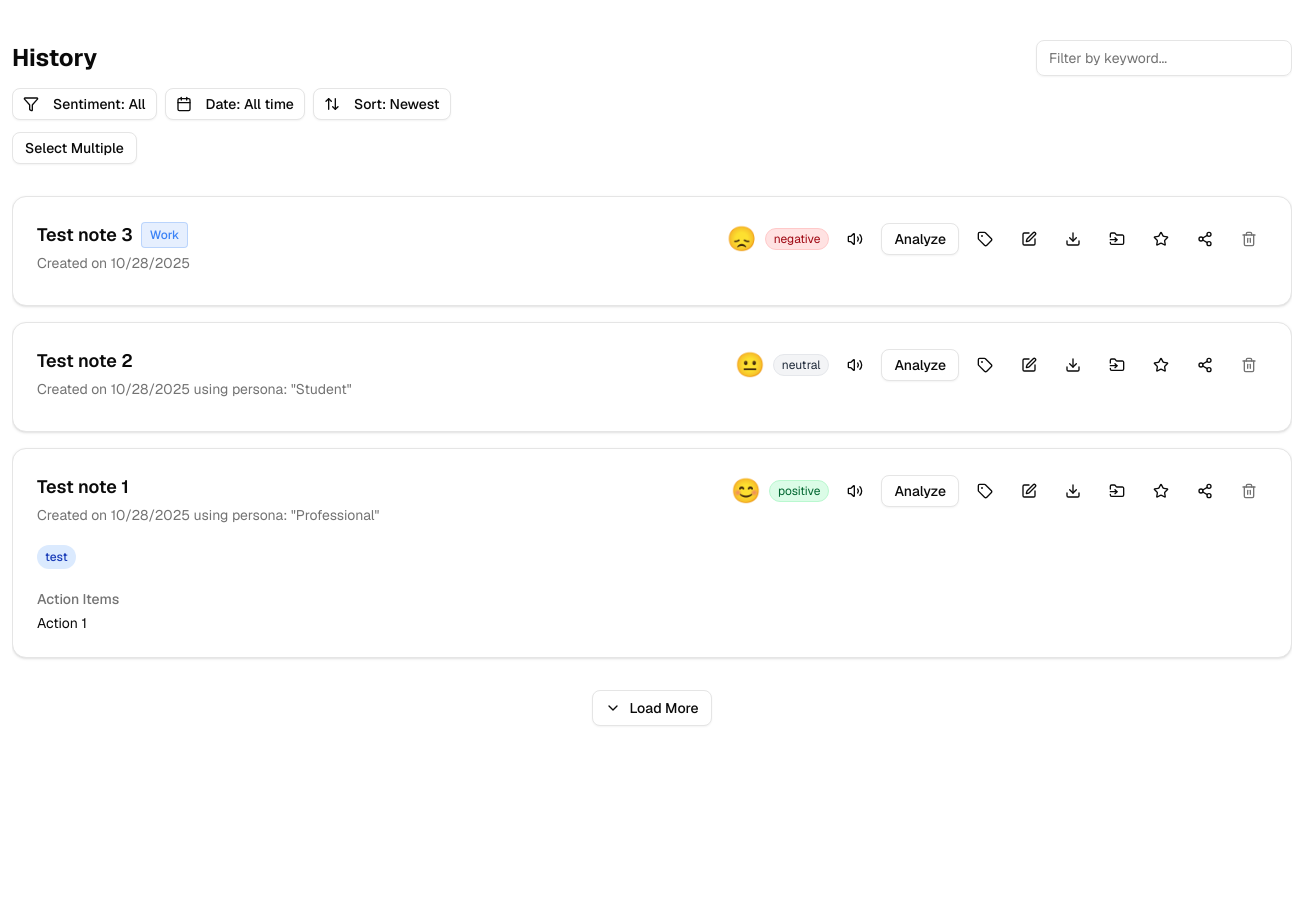
it: History - Optimistic UI › Edge Cases and Advanced Scenarios › handles pagination loading more notes
expect the text "Test note 1" is shown: met, box [37,473,129,501]
Step 1. Click the button "Load More" → [652, 708], box [592,690,712,726]
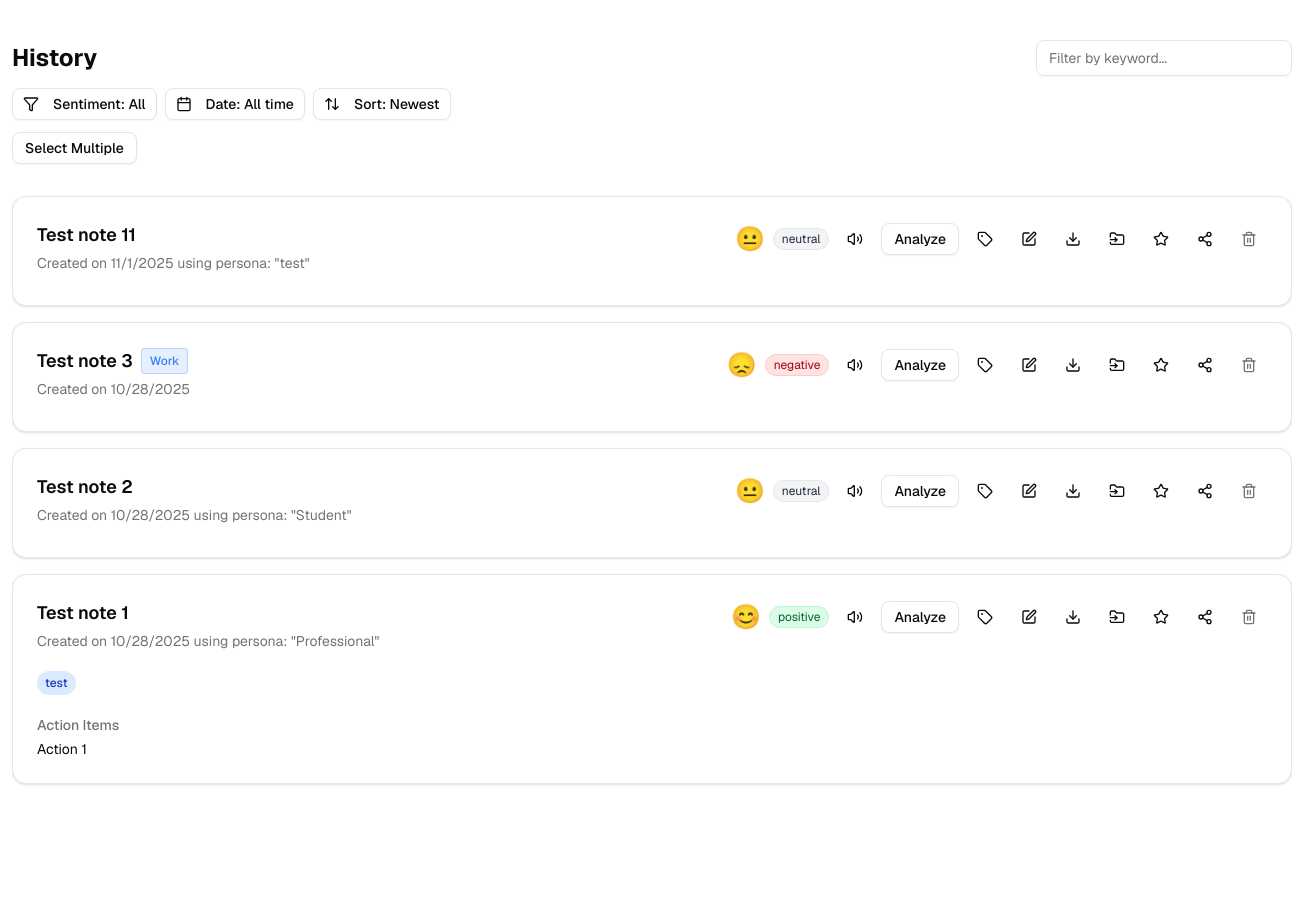
expect the text "Test note 11" is shown: met, box [37,221,136,249]
